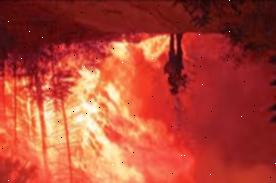fire: (0, 33, 164, 183)
